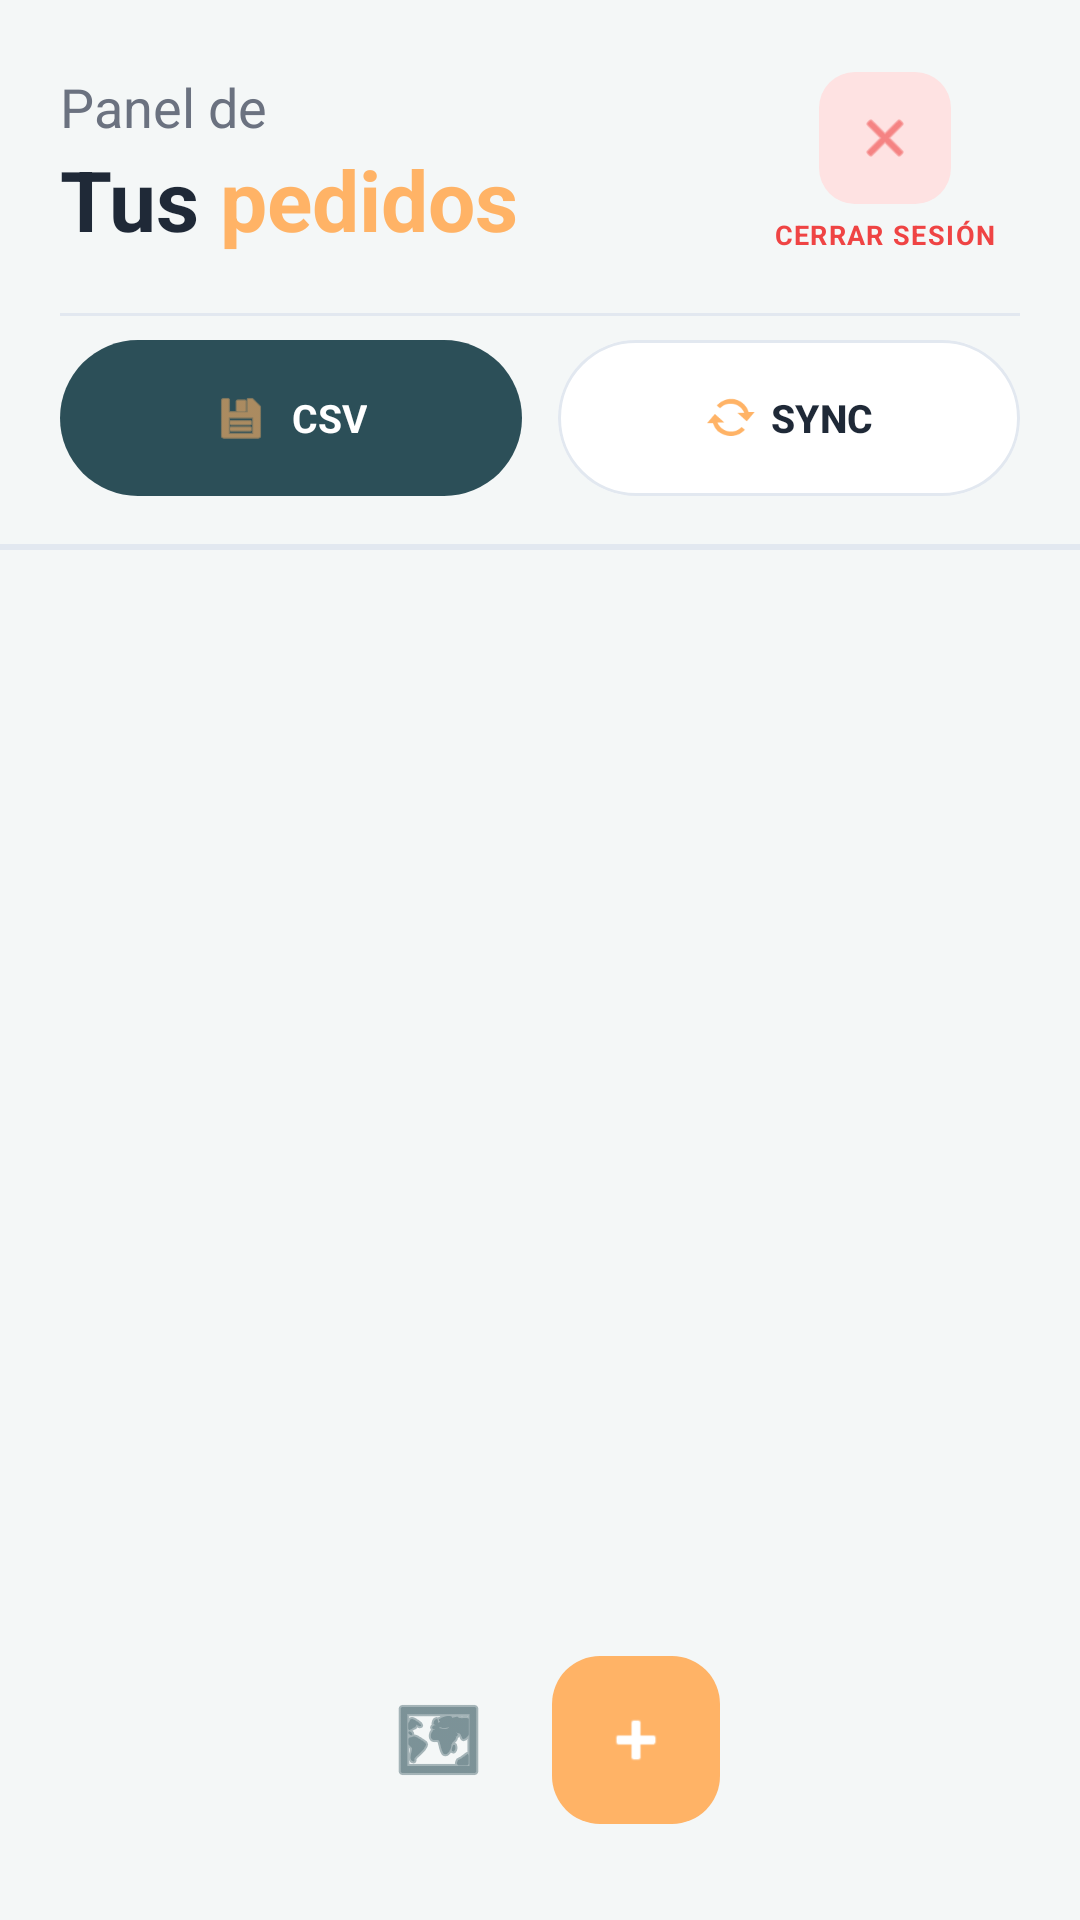

Icon bounding boxes for this 1080w x 1920h phone screenshot, format (x1, y1, x2, y2):
Nuevo pedido: (552, 1656, 720, 1824)
Ver ruta: (399, 1705, 478, 1775)
